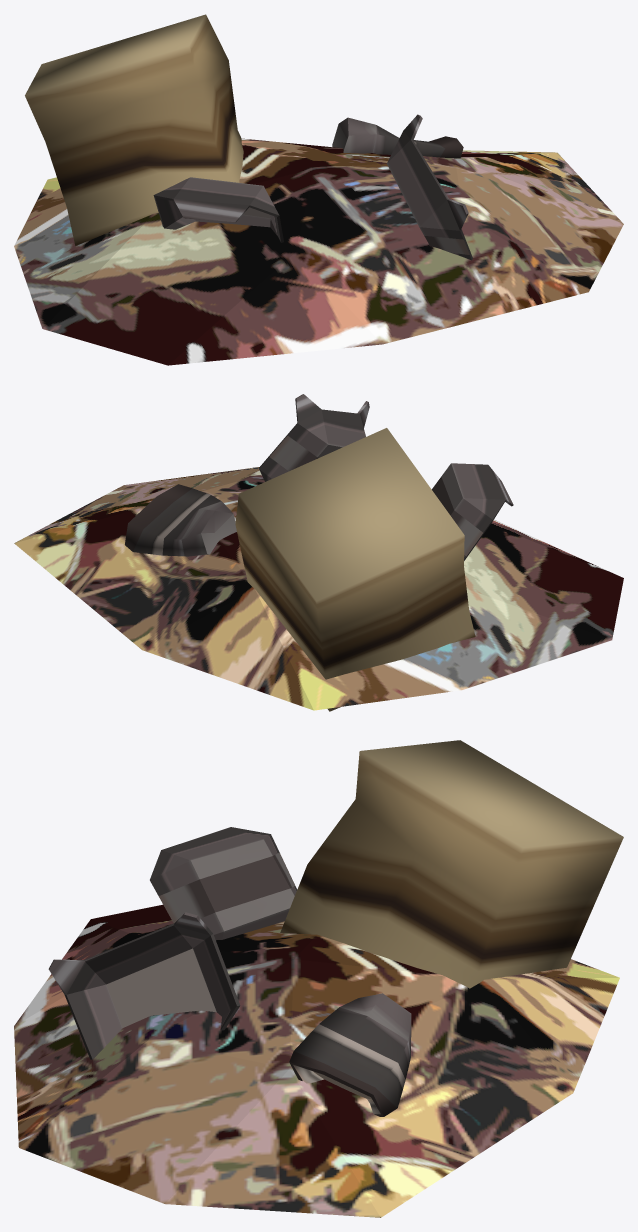
File: Trash_pile_005.fbx
3 renders of one model, top to bottom at view 1: azimuth 30°, elevation 25°; view 2: azimuth 150°, elevation 25°; view 3: azimuth 270°, elevation 25°, orthographic. The views are drawn at different scales.
Parts seen in each view (by area): view 1: Trash_pile_005; view 2: Trash_pile_005; view 3: Trash_pile_005.
Part boxes in pixels (x1,y1,x2,y2): Trash_pile_005: [14, 14, 623, 365]; Trash_pile_005: [14, 394, 623, 711]; Trash_pile_005: [14, 740, 623, 1217].
Size of the model in its own units: 80.86 by 62.81 by 31.84.
